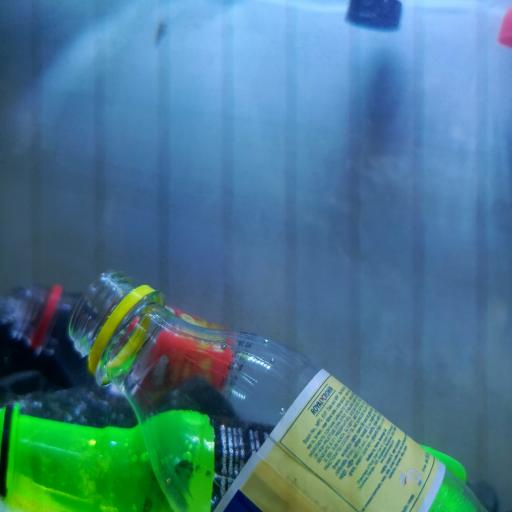bottle_cap: (348, 0, 402, 29), (500, 10, 512, 47)
plastic_bottle: (66, 268, 490, 512), (0, 404, 477, 512), (14, 280, 304, 415)
